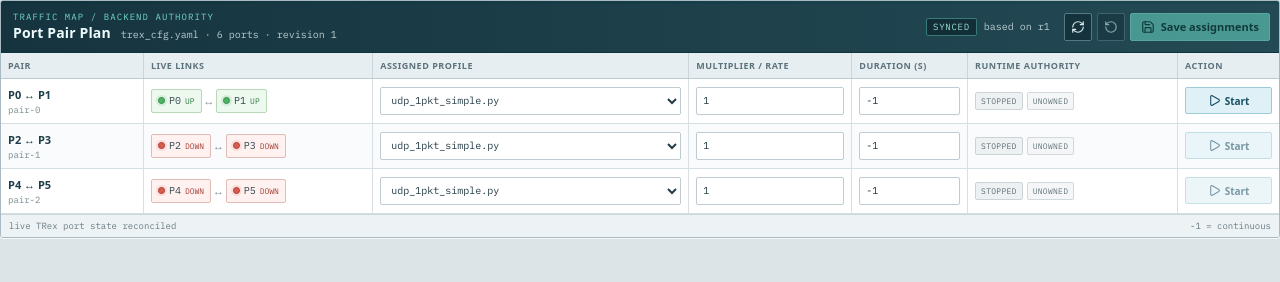
PortPairPlan › saves edited assignments with their baseline revision before enabling Start
Select "http_simple.yaml" in the dropdown named "Profile for P0 ↔ P1" at (531, 100), box [380,86,681,114]
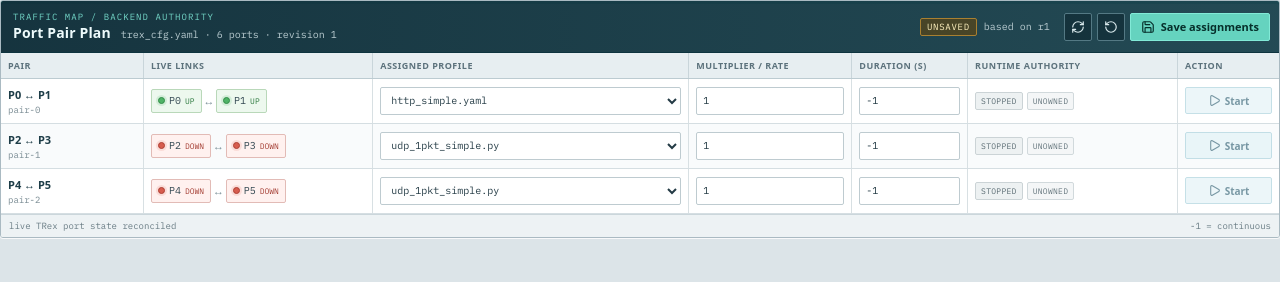
Replace the text in the field named "Multiplier or rate for P0 ↔ P1" with "10Kpps" at (770, 100), box [696,86,844,114]
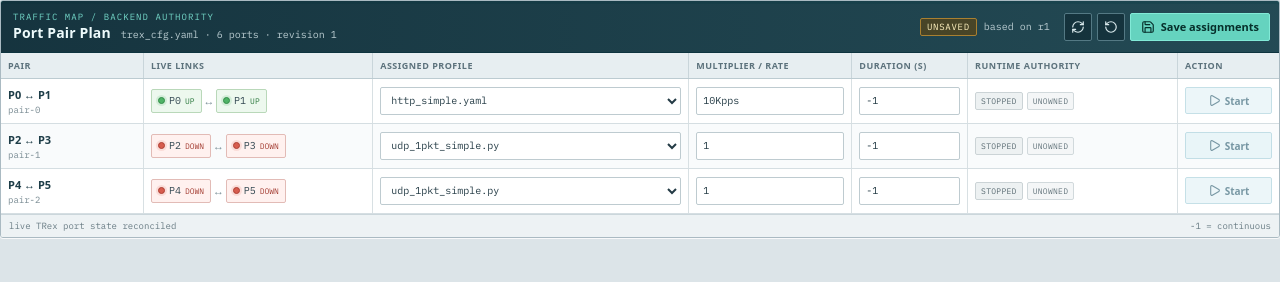
Replace the text in the number field named "Duration for P0 ↔ P1" with "12.5" at (910, 100), box [859,86,960,114]
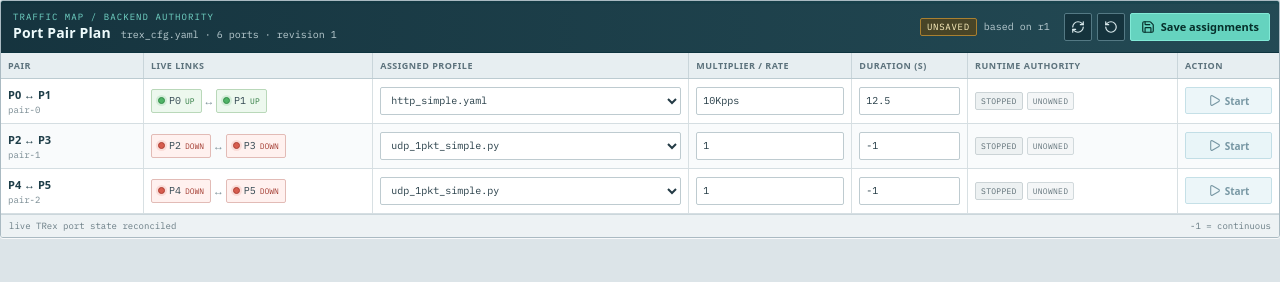
Result: the button with aria-label "Start P0 ↔ P1" is disabled at [1185,87,1272,114]
Result: the button with aria-label "Save traffic plan" is enabled
Click the button with aria-label "Save traffic plan" at (1200, 26), box [1130,12,1270,40]
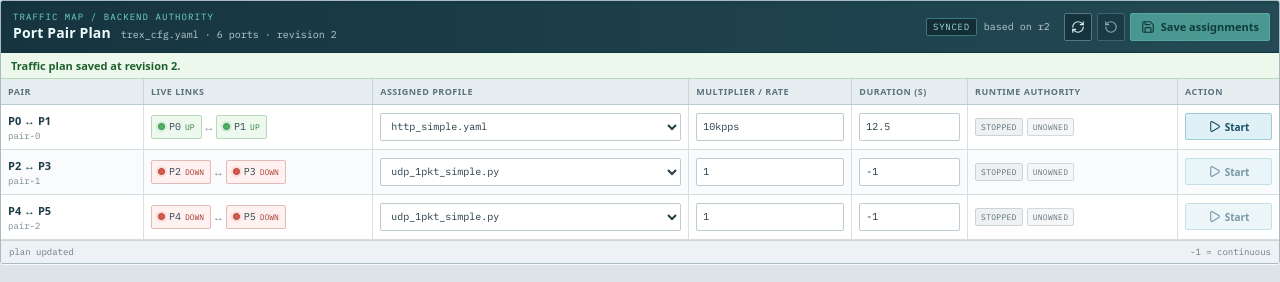
Result: the message reads "Traffic plan saved at revision 2." at [11,58,180,73]
Result: the button with aria-label "Start P0 ↔ P1" is enabled at [1185,113,1272,140]
